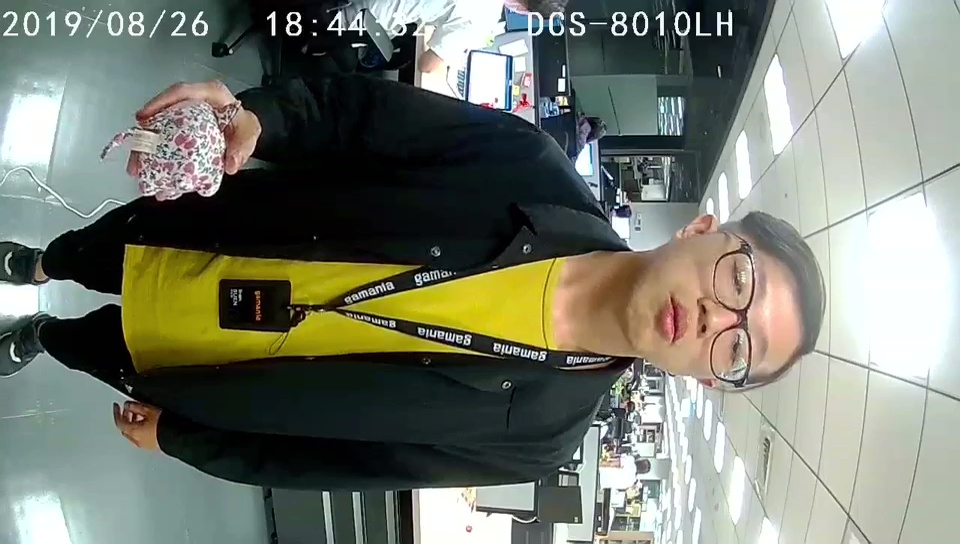pig: (128, 101, 244, 206)
